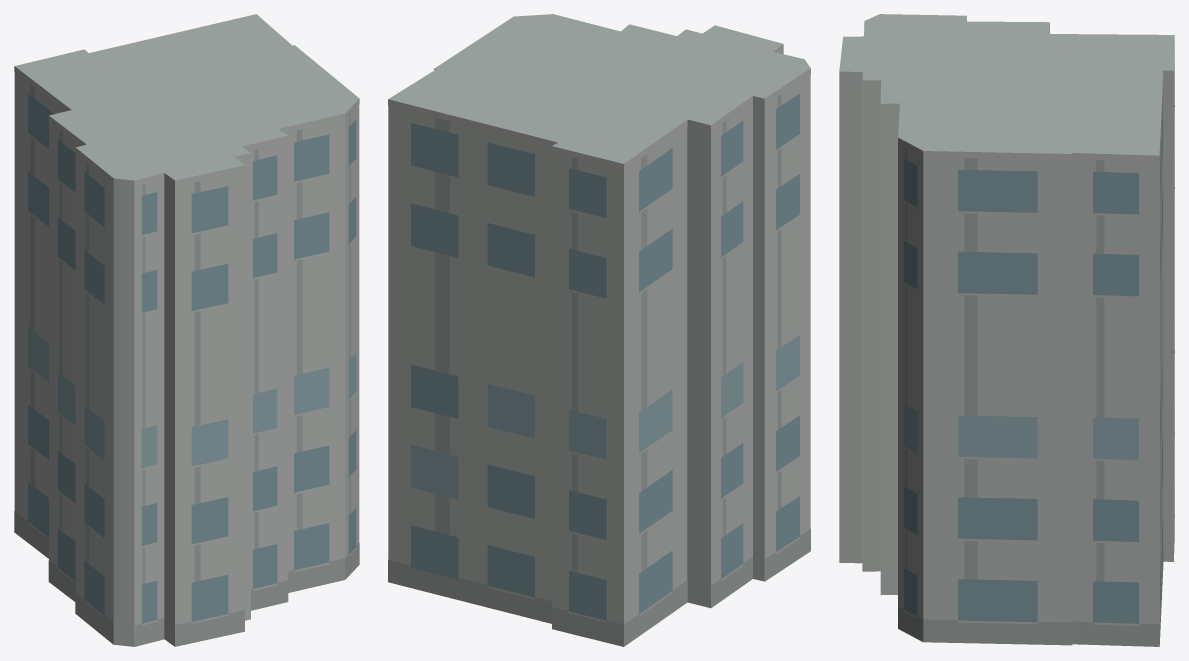
The model's file is survey-upis-33003552.glb.
3 views of the same model, side by side, from view 1: azimuth 30°, elevation 25°; view 2: azimuth 150°, elevation 25°; view 3: azimuth 270°, elevation 25° (orthographic). The views are drawn at different scales.
Visible parts, largest first — view 1: survey-upis-33003552.tmp; view 2: survey-upis-33003552.tmp; view 3: survey-upis-33003552.tmp.
Part boxes in pixels (left/top/right/bottom): survey-upis-33003552.tmp: left=14, top=14, right=359, bottom=646; survey-upis-33003552.tmp: left=388, top=14, right=810, bottom=646; survey-upis-33003552.tmp: left=839, top=14, right=1174, bottom=646.
Bounding box in the file's own units: 11.57 × 18.7 × 11.58.
